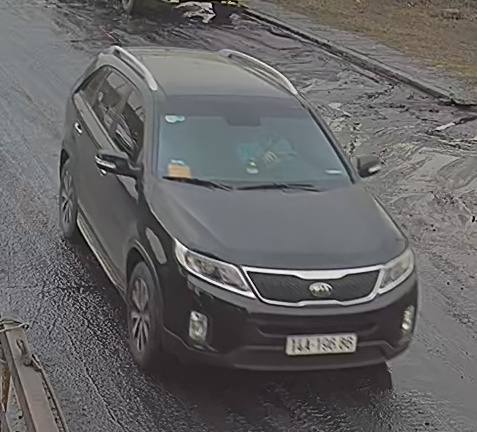vehicle plate: (282, 331, 364, 360)
